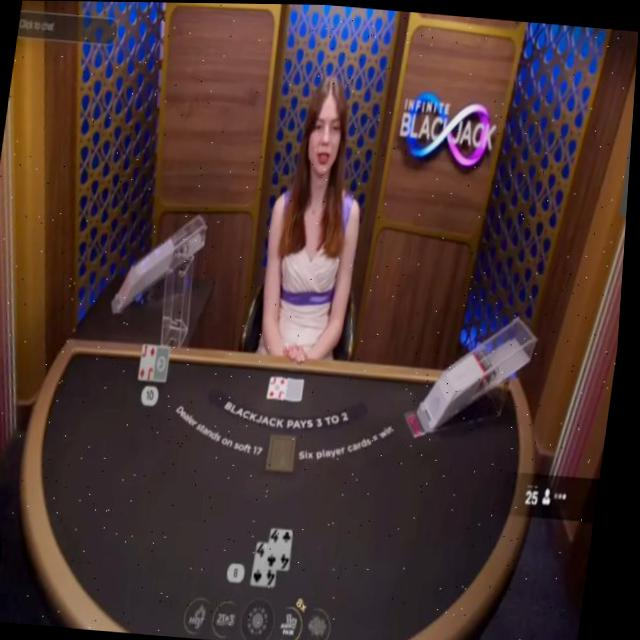Card-4: (258, 541, 284, 586), (273, 527, 300, 569)
Card-J: (272, 375, 292, 398)
